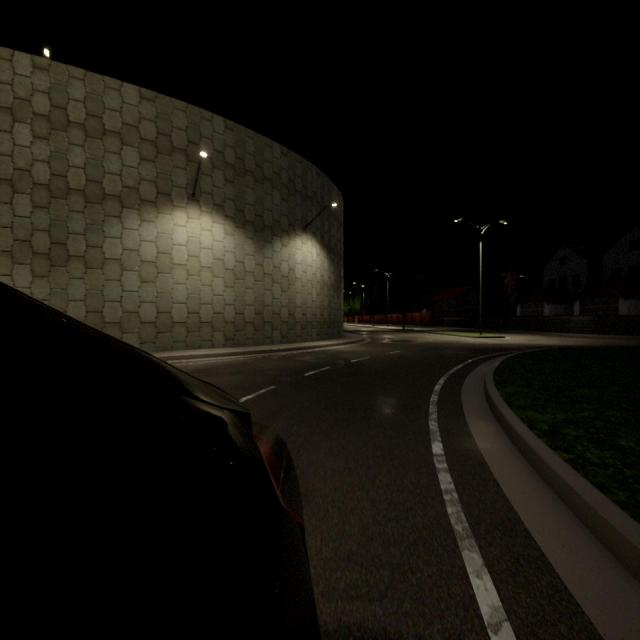Vehicle: (0, 286, 312, 640)
